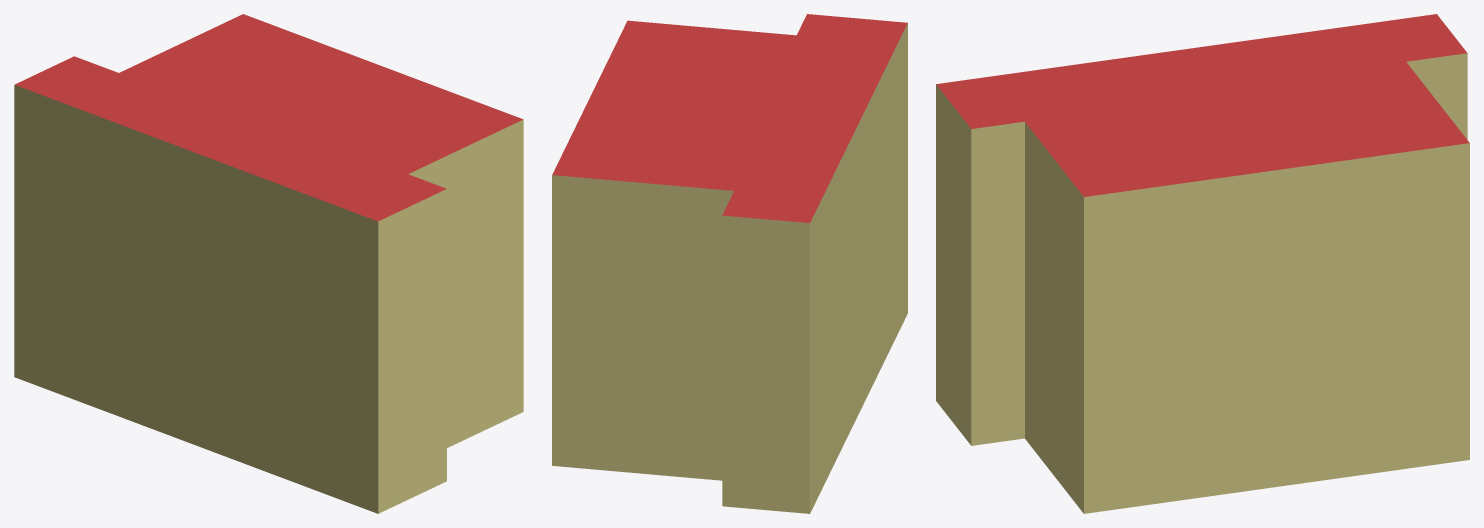
The picture shows the model from 3 angles, left to right: view 1: azimuth 30°, elevation 25°; view 2: azimuth 150°, elevation 25°; view 3: azimuth 270°, elevation 25°; orthographic projection. The views are drawn at different scales.
Size of the model in its own units: 7.03 by 8.66 by 5.68.
